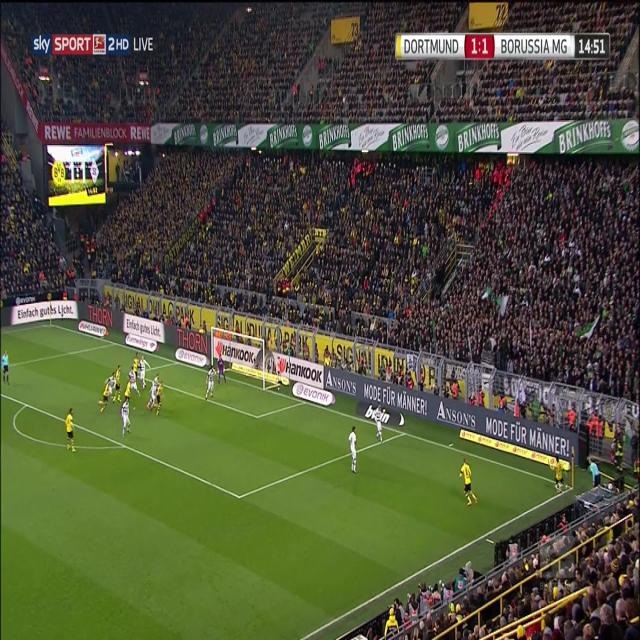Goalkeeper: (215, 351, 229, 388)
Player: (458, 455, 480, 510), (62, 406, 78, 456), (347, 422, 360, 480), (548, 455, 568, 490), (154, 380, 168, 429), (96, 379, 112, 415), (120, 397, 132, 445), (146, 372, 158, 416), (372, 410, 386, 447), (204, 364, 216, 404), (113, 363, 124, 402), (128, 366, 141, 396), (140, 353, 150, 391), (131, 350, 140, 369)
Referee: (587, 454, 604, 491), (2, 348, 14, 387)
